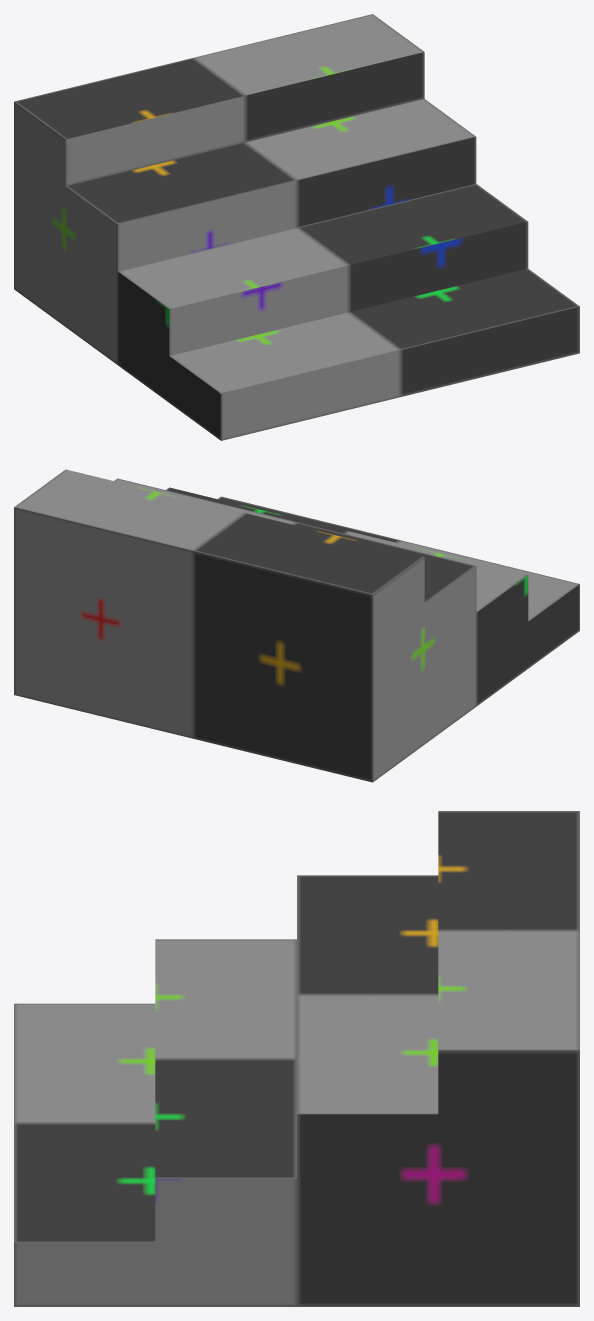
File: Modular Stairs Small.glb
3 renders of one model, top to bottom at view 1: azimuth 30°, elevation 25°; view 2: azimuth 150°, elevation 25°; view 3: azimuth 270°, elevation 25°, orthographic. The views are drawn at different scales.
Visible parts, largest first — view 1: Modular Stairs 2x2x1; view 2: Modular Stairs 2x2x1; view 3: Modular Stairs 2x2x1.
Part boxes in pixels (<box>): Modular Stairs 2x2x1: <box>14,14,579,440</box>; Modular Stairs 2x2x1: <box>14,469,579,782</box>; Modular Stairs 2x2x1: <box>14,811,579,1306</box>.
Bounding box in the file's own units: 2 × 1 × 2.
Materials: 1 (1 with a texture image).
